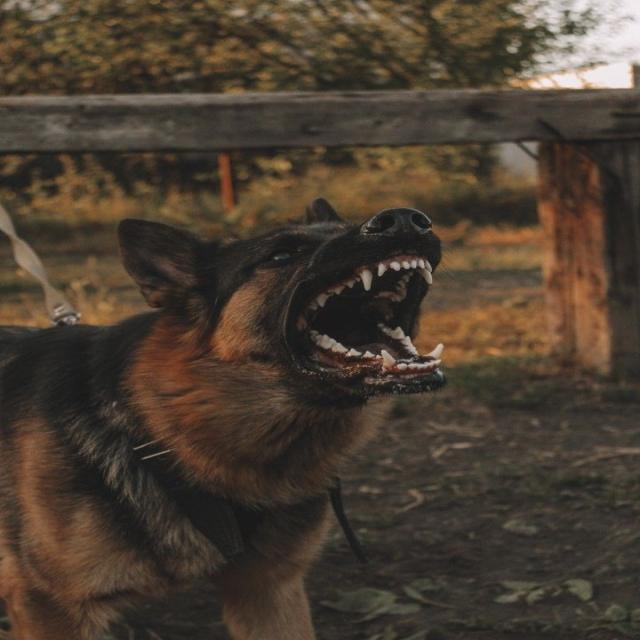Dogs: (0, 186, 462, 640)
